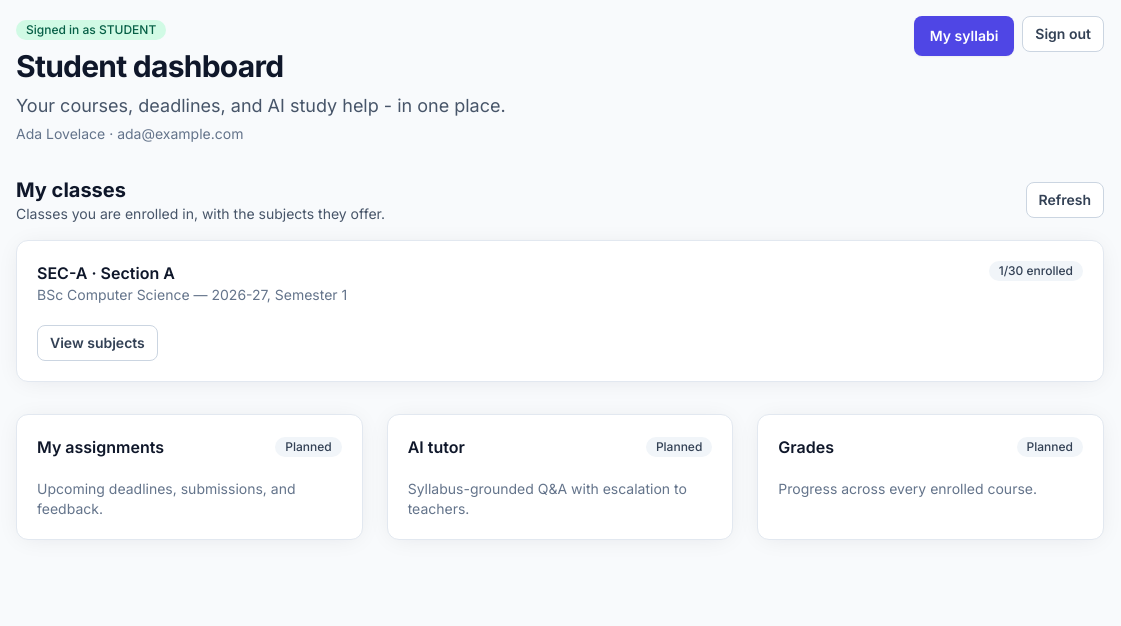
Test: DashboardPlaceholder academic section › loads and shows a class's subjects on demand
Expected: the heading "SEC-A · Section A" is shown, [37,263,175,283]
Click the button "View subjects": (97, 343) [37,325,158,361]
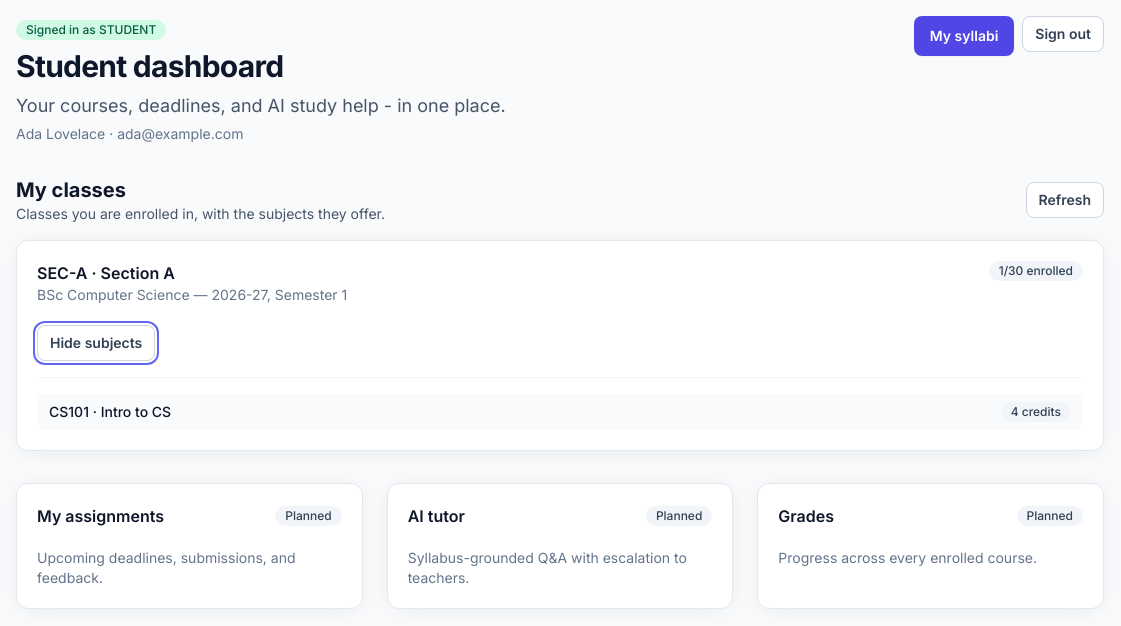
Expected: the text "CS101 · Intro to CS" is shown, [49,402,171,422]
